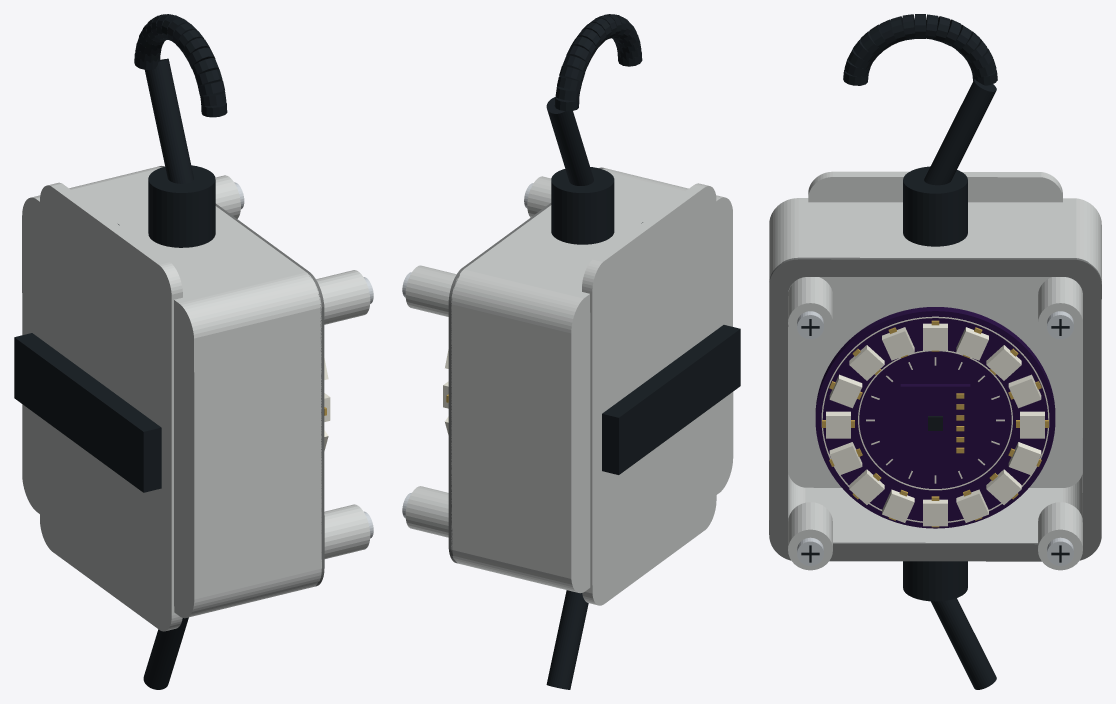
The model's file is housing.glb.
3 renders of one model, left to right at view 1: azimuth 30°, elevation 25°; view 2: azimuth 150°, elevation 25°; view 3: azimuth 270°, elevation 25°, orthographic. The views are drawn at different scales.
Visible parts, largest first — view 1: gray hollow base, mounting flange, pipe mounting strap, back plate, cable gland 1, cable 1, screw boss 0.025 0.025, screw boss -0.025 0.025, cable -1, silicone seal, screw boss 0.025 -0.025; view 2: gray hollow base, mounting flange, back plate, pipe mounting strap, cable gland 1, cable -1, cable 1, screw boss 0.025 -0.025, screw boss -0.025 -0.025, silicone seal, screw boss 0.025 0.025; view 3: purple electronics board, gray hollow base, back plate, silicone seal, mounting flange, magnetometer PCB, cable gland 1, cable 1, cable -1, cable gland -1, screw boss -0.025 -0.025, screw boss -0.025 0.025 (+24 smaller).
Boxes of the visible parts, <box> form: gray hollow base: <box>22,166,321,618</box>; mounting flange: <box>40,182,182,631</box>; pipe mounting strap: <box>14,333,161,492</box>; back plate: <box>22,197,205,617</box>; cable gland 1: <box>148,165,215,247</box>; cable 1: <box>145,58,193,183</box>; screw boss 0.025 0.025: <box>316,270,370,324</box>; screw boss -0.025 0.025: <box>324,504,370,558</box>; cable -1: <box>143,617,188,689</box>; silicone seal: <box>158,166,324,586</box>; screw boss 0.025 -0.025: <box>215,175,240,218</box>; gray hollow base: <box>451,168,733,593</box>; mounting flange: <box>582,183,716,605</box>; back plate: <box>560,195,733,592</box>; pipe mounting strap: <box>602,325,740,474</box>; cable gland 1: <box>551,167,614,244</box>; cable -1: <box>546,590,588,689</box>; cable 1: <box>546,97,593,185</box>; screw boss 0.025 -0.025: <box>405,265,456,316</box>; screw boss -0.025 -0.025: <box>405,486,448,537</box>; silicone seal: <box>448,167,604,563</box>; screw boss 0.025 0.025: <box>527,176,551,217</box>; purple electronics board: <box>815,307,1055,528</box>; gray hollow base: <box>769,198,1101,542</box>; back plate: <box>769,198,1101,487</box>; silicone seal: <box>769,257,1101,561</box>; mounting flange: <box>808,171,1062,202</box>; magnetometer PCB: <box>900,384,970,458</box>; cable gland 1: <box>903,166,967,246</box>; cable 1: <box>924,79,996,185</box>; cable -1: <box>931,598,996,689</box>; cable gland -1: <box>903,561,967,601</box>; screw boss -0.025 -0.025: <box>1038,502,1082,570</box>; screw boss -0.025 0.025: <box>788,502,832,570</box>.
Size of the model in its own units: 0.05 by 0.1475 by 0.0665.
